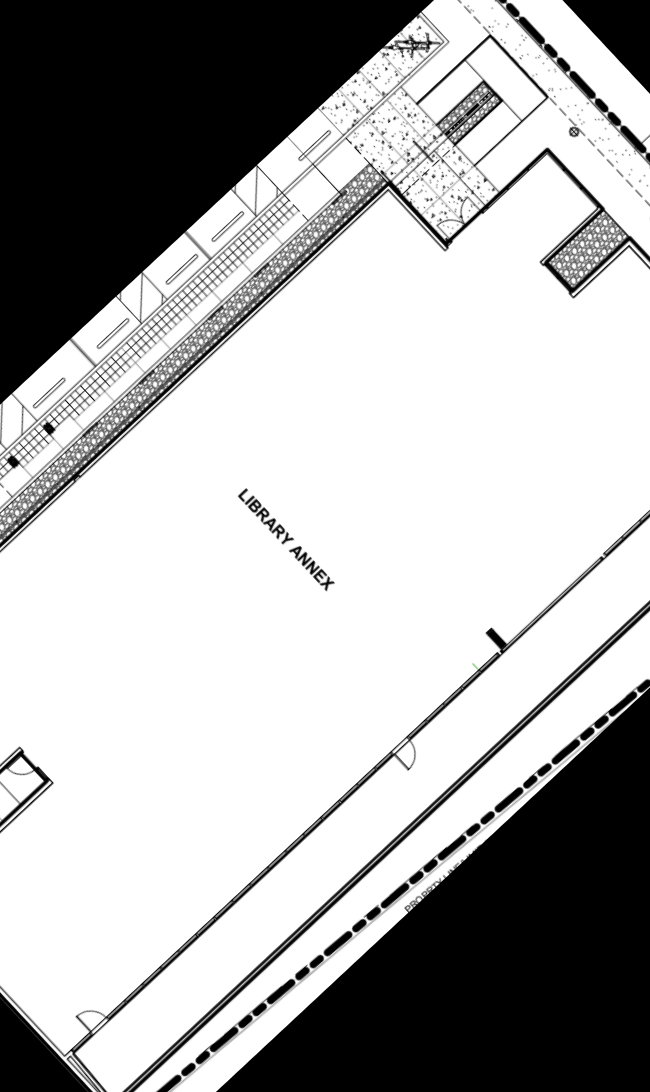door: (432, 192, 488, 245), (67, 997, 114, 1044), (385, 731, 430, 777), (0, 748, 42, 791)
